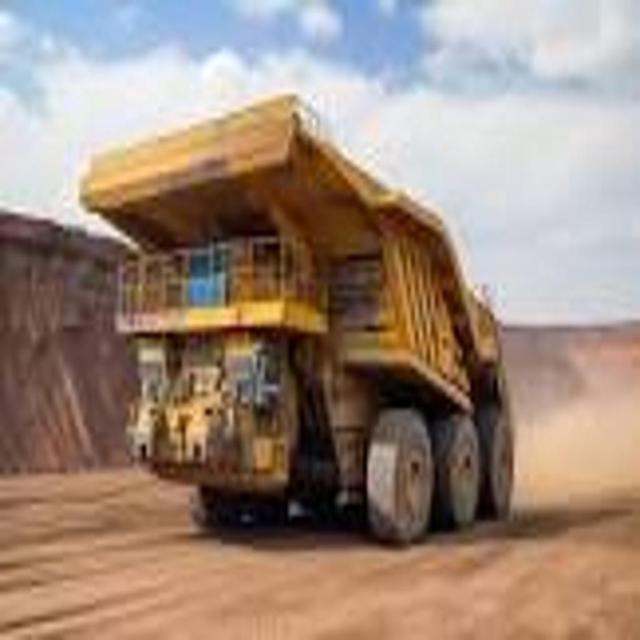dump_truck: (78, 80, 519, 540)
